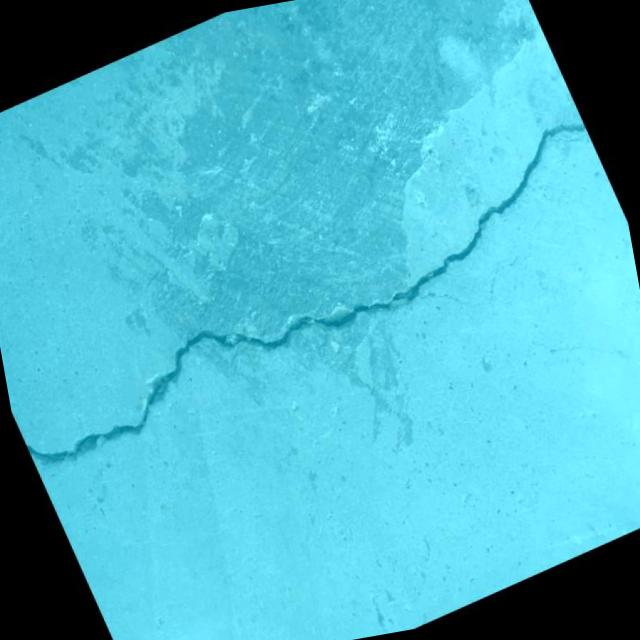crack: (0, 109, 640, 500), (526, 300, 640, 416)
